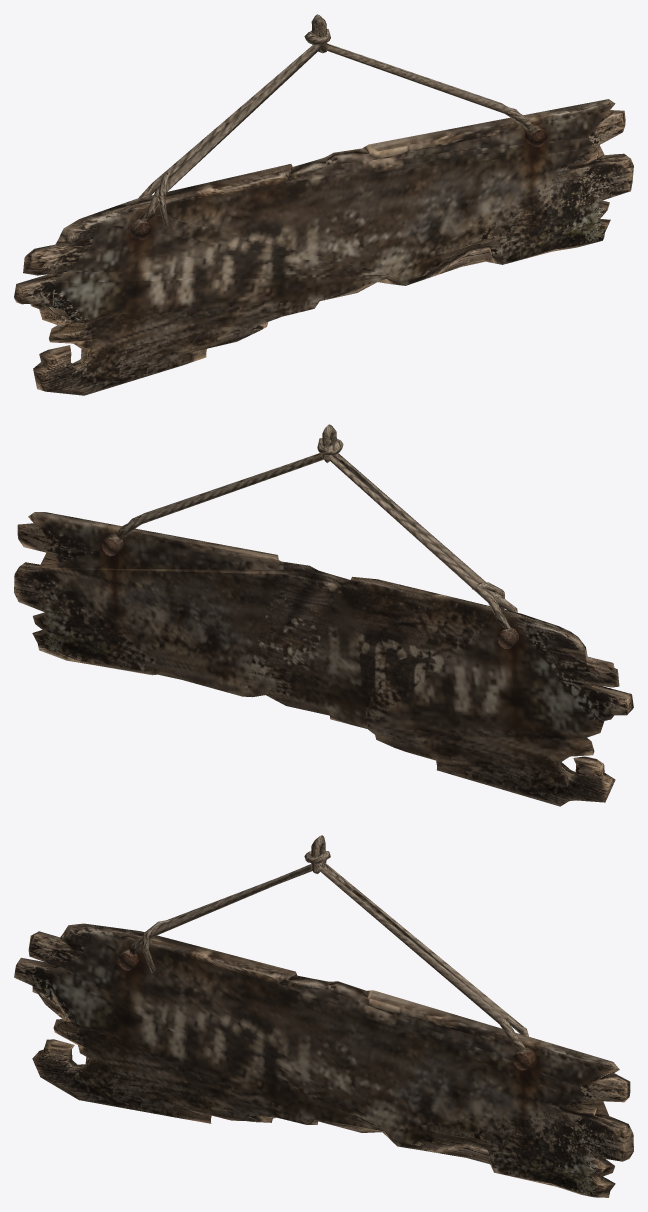
File: Meshy_AI_Weathered_Warning_20261029_texture.fbx
3 renders of one model, top to bottom at view 1: azimuth 30°, elevation 25°; view 2: azimuth 150°, elevation 25°; view 3: azimuth 330°, elevation 25°, orthographic.
Parts seen in each view (by area): view 1: Mesh_0; view 2: Mesh_0; view 3: Mesh_0.
Part boxes in pixels (box(x1,y1,x2,y2)): Mesh_0: box(14, 14, 633, 395); Mesh_0: box(14, 424, 633, 806); Mesh_0: box(14, 835, 633, 1197).
Size of the model in its own units: 95.75 by 48.05 by 4.93.
Materials: 1 (1 with a texture image).
